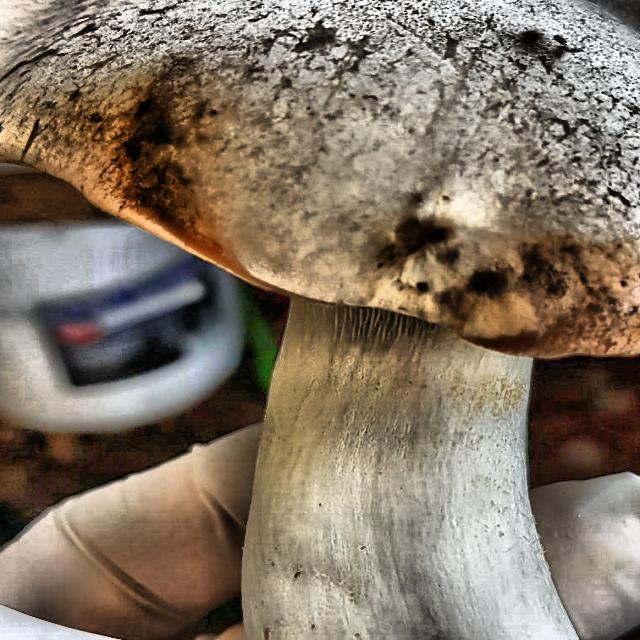Affected: (33, 59, 293, 283), (380, 194, 640, 347)
